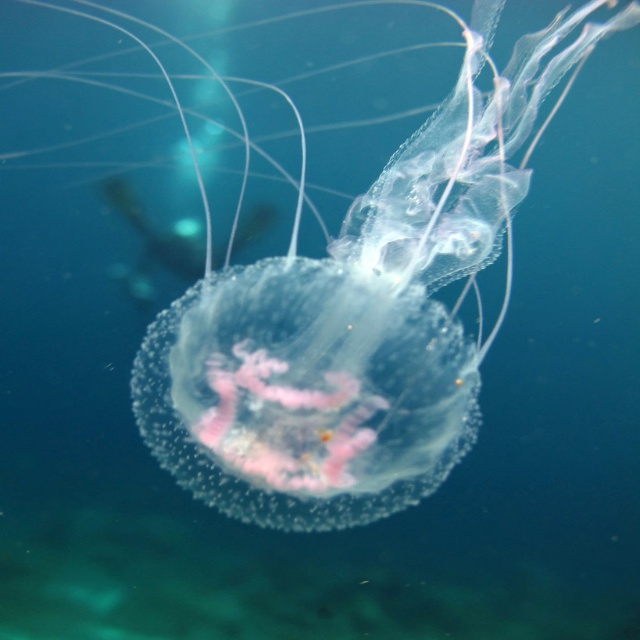Jellyfish: (0, 0, 639, 531)
